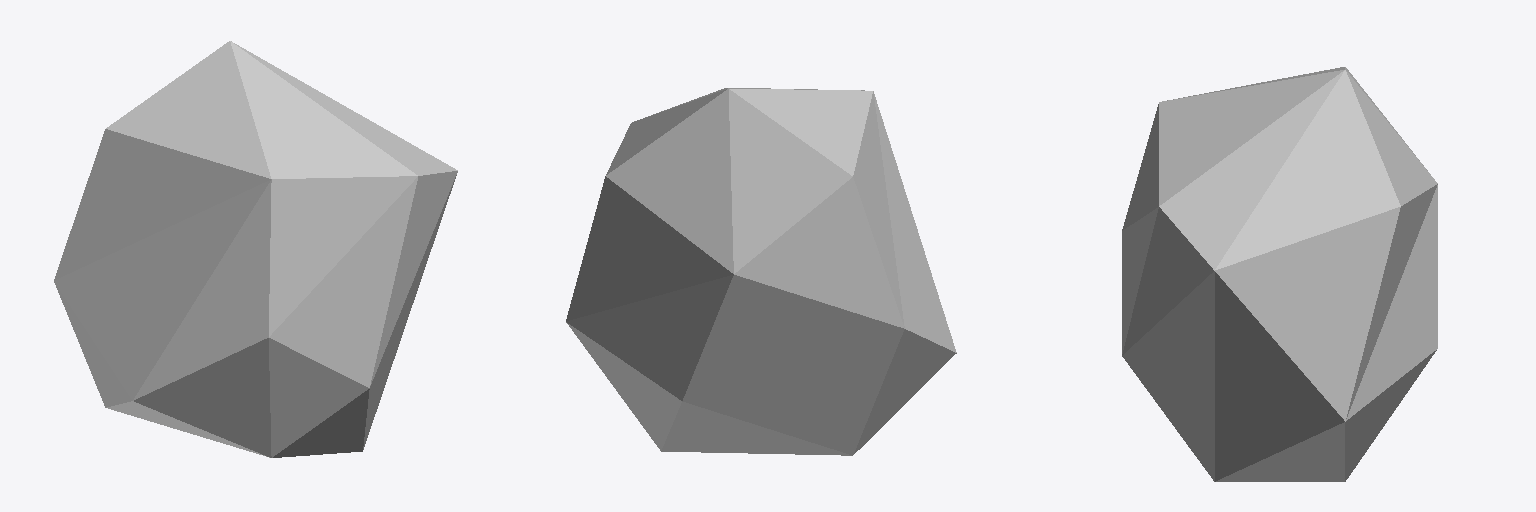
Rendered from piedra.obj.
3 renders of one model, left to right at view 1: azimuth 30°, elevation 25°; view 2: azimuth 150°, elevation 25°; view 3: azimuth 270°, elevation 25°, orthographic.
Parts seen in each view (by area): view 1: piedra:Sphere002; view 2: piedra:Sphere002; view 3: piedra:Sphere002.
Part boxes in pixels (left/top/right/bottom): piedra:Sphere002: left=54, top=41, right=457, bottom=457; piedra:Sphere002: left=566, top=88, right=956, bottom=455; piedra:Sphere002: left=1122, top=67, right=1437, bottom=481.
Size of the model in its own units: 0.5909 by 0.632 by 0.4769.